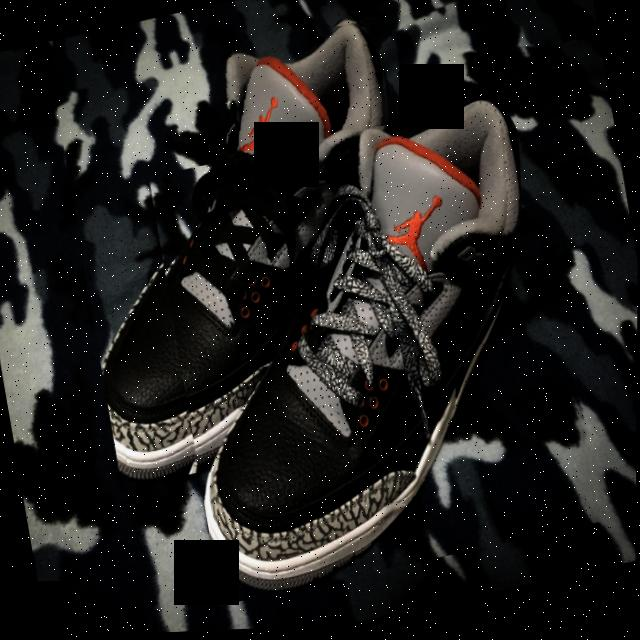shoe: (146, 95, 608, 610), (51, 14, 450, 493)
